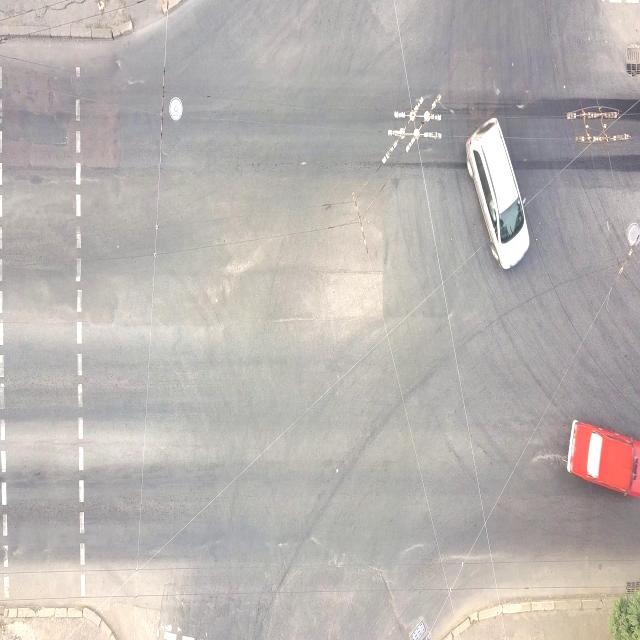Car: (467, 116, 530, 270), (566, 418, 640, 499)
